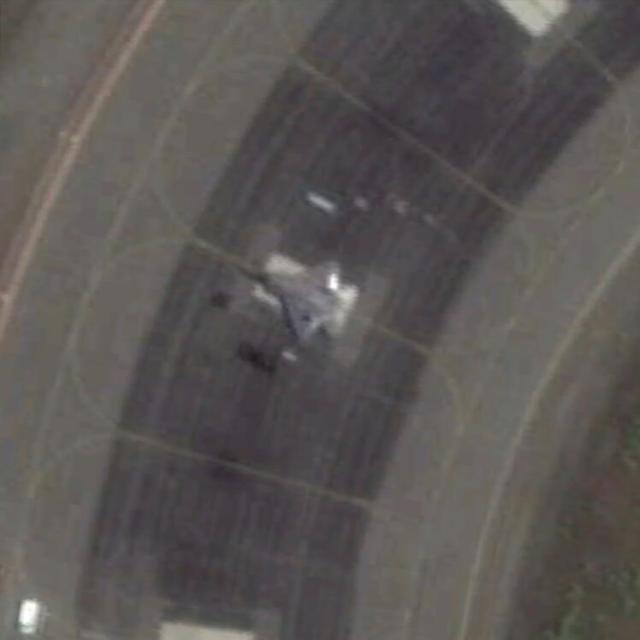fighter jet: (233, 247, 365, 341)
